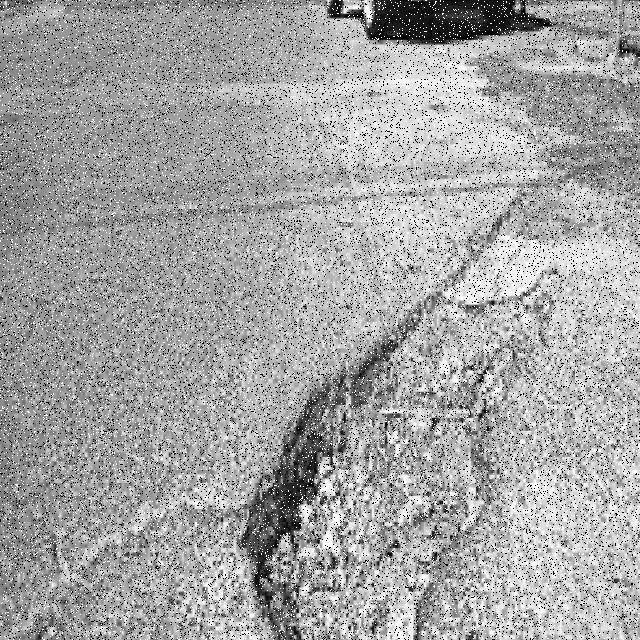pothole: (236, 274, 546, 640)
